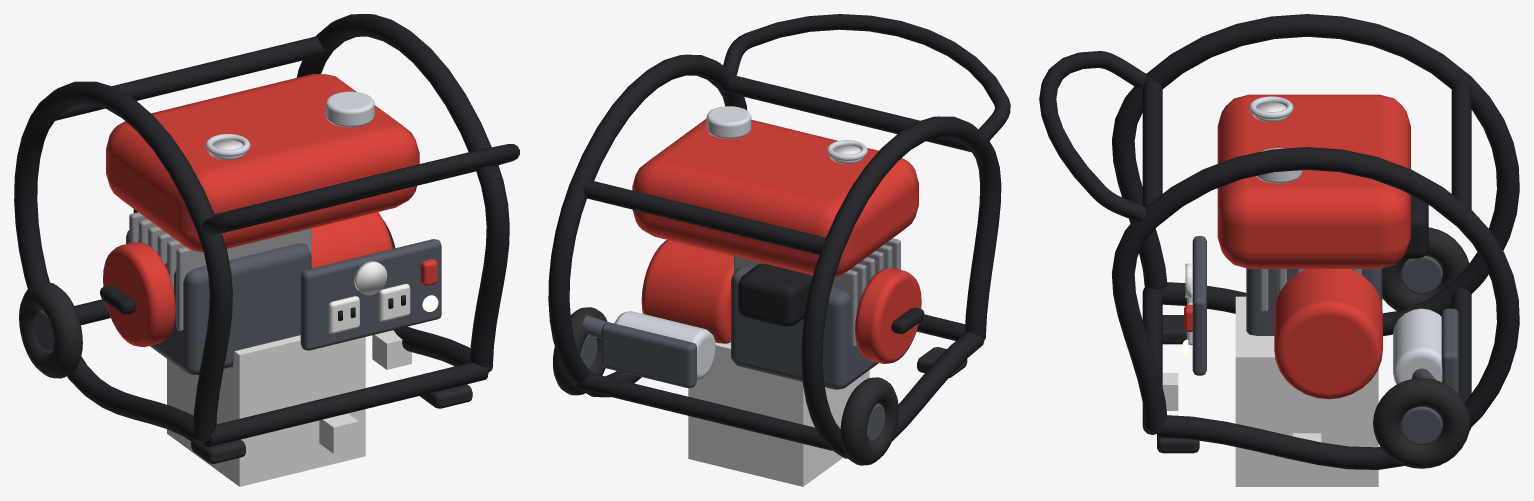
Rendered from GenPetrol.fbx.
The picture shows the model from 3 angles, left to right: view 1: azimuth 30°, elevation 25°; view 2: azimuth 150°, elevation 25°; view 3: azimuth 270°, elevation 25°; orthographic projection. The views are drawn at different scales.
Parts seen in each view (by area): view 1: Motor__Black, Motor__Red, Motor__MetalDark, Origin__Pivot, Body__Rubber, Body__Black, Motor__Grey, Motor__White, Motor__Chrome, Origin__AxisZ, Origin__AxisX, Body__MetalDark; view 2: Motor__Black, Motor__Red, Motor__MetalDark, Origin__Pivot, Body__Black, Body__Rubber, Motor__Chrome, Motor__Grey, Body__MetalDark; view 3: Motor__Black, Motor__Red, Origin__Pivot, Body__Rubber, Motor__MetalDark, Body__Black, Motor__Chrome, Body__MetalDark, Motor__White, Motor__Grey, Origin__AxisZ.
Part boxes in pixels (bbox=[...]): Motor__Black: bbox=[14, 14, 509, 447]; Motor__Red: bbox=[103, 73, 437, 347]; Motor__MetalDark: bbox=[126, 230, 441, 374]; Origin__Pivot: bbox=[167, 335, 365, 486]; Body__Rubber: bbox=[19, 220, 472, 463]; Body__Black: bbox=[202, 144, 519, 234]; Motor__Grey: bbox=[129, 212, 311, 331]; Motor__White: bbox=[209, 139, 410, 333]; Motor__Chrome: bbox=[205, 91, 374, 156]; Origin__AxisZ: bbox=[319, 413, 358, 453]; Origin__AxisX: bbox=[372, 330, 411, 369]; Body__MetalDark: bbox=[33, 310, 53, 352]; Motor__Black: bbox=[548, 54, 1001, 458]; Motor__Red: bbox=[632, 118, 921, 363]; Motor__MetalDark: bbox=[582, 264, 893, 389]; Origin__Pivot: bbox=[688, 342, 869, 486]; Body__Black: bbox=[723, 14, 1010, 141]; Body__Rubber: bbox=[553, 307, 967, 465]; Motor__Chrome: bbox=[614, 106, 867, 379]; Motor__Grey: bbox=[734, 238, 900, 346]; Body__MetalDark: bbox=[580, 335, 885, 441]; Motor__Black: bbox=[1111, 14, 1519, 469]; Motor__Red: bbox=[1184, 94, 1410, 399]; Origin__Pivot: bbox=[1235, 296, 1378, 486]; Body__Rubber: bbox=[1157, 227, 1470, 468]; Motor__MetalDark: bbox=[1192, 236, 1458, 394]; Body__Black: bbox=[1039, 51, 1146, 221]; Motor__Chrome: bbox=[1249, 96, 1442, 384]; Body__MetalDark: bbox=[1400, 255, 1442, 445]; Motor__White: bbox=[1185, 102, 1289, 345]; Motor__Grey: bbox=[1260, 269, 1361, 312]; Origin__AxisZ: bbox=[1162, 373, 1178, 410].
Size of the model in its own units: 2.7 by 2.89 by 3.36.
